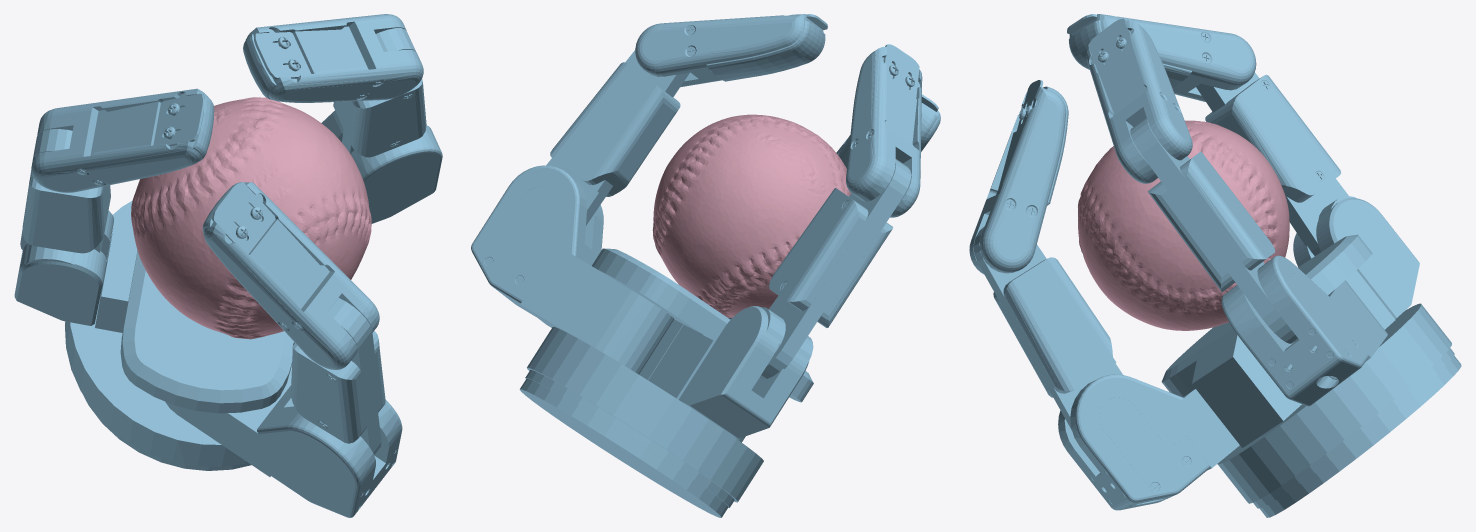
3 renders of one model, left to right at view 1: azimuth 30°, elevation 25°; view 2: azimuth 150°, elevation 25°; view 3: azimuth 270°, elevation 25°, orthographic. The views are drawn at different scales.
Visible parts, largest first — view 1: world, baseball.stl; view 2: world, baseball.stl; view 3: world, baseball.stl.
Part boxes in pixels (x1,y1,x2,y2): world: [14, 14, 442, 517]; baseball.stl: [131, 97, 371, 339]; world: [471, 14, 940, 517]; baseball.stl: [652, 114, 850, 317]; world: [969, 14, 1461, 517]; baseball.stl: [1078, 120, 1289, 330].
Size of the model in its own units: 0.1578 by 0.1745 by 0.1687.
